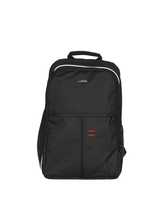bag: (30, 45, 133, 185)
